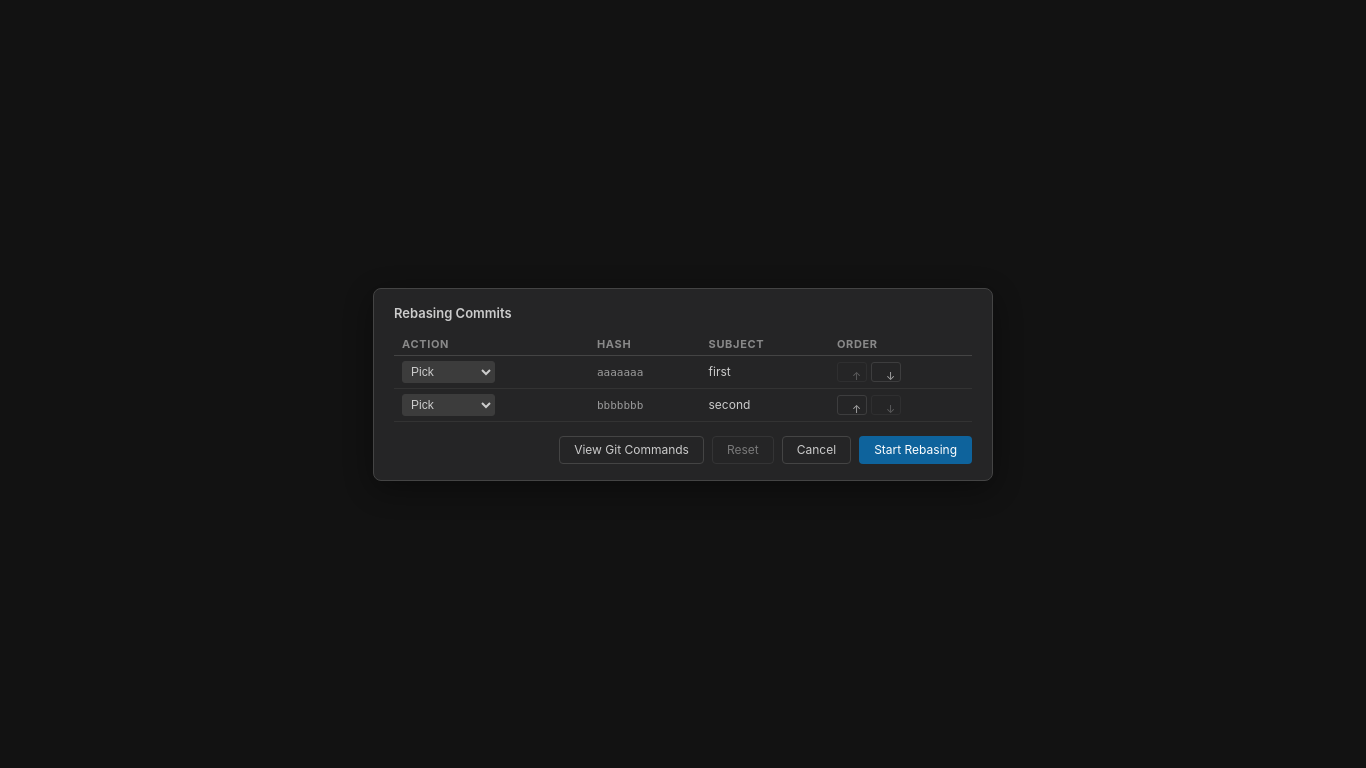
InteractiveRebaseDialog › keeps the dialog open and shows why a rebase failed
Expected: the text "first" is shown, [708,364,731,379]
Click the button "Start Rebasing": point(916, 450) [859,436,972,464]
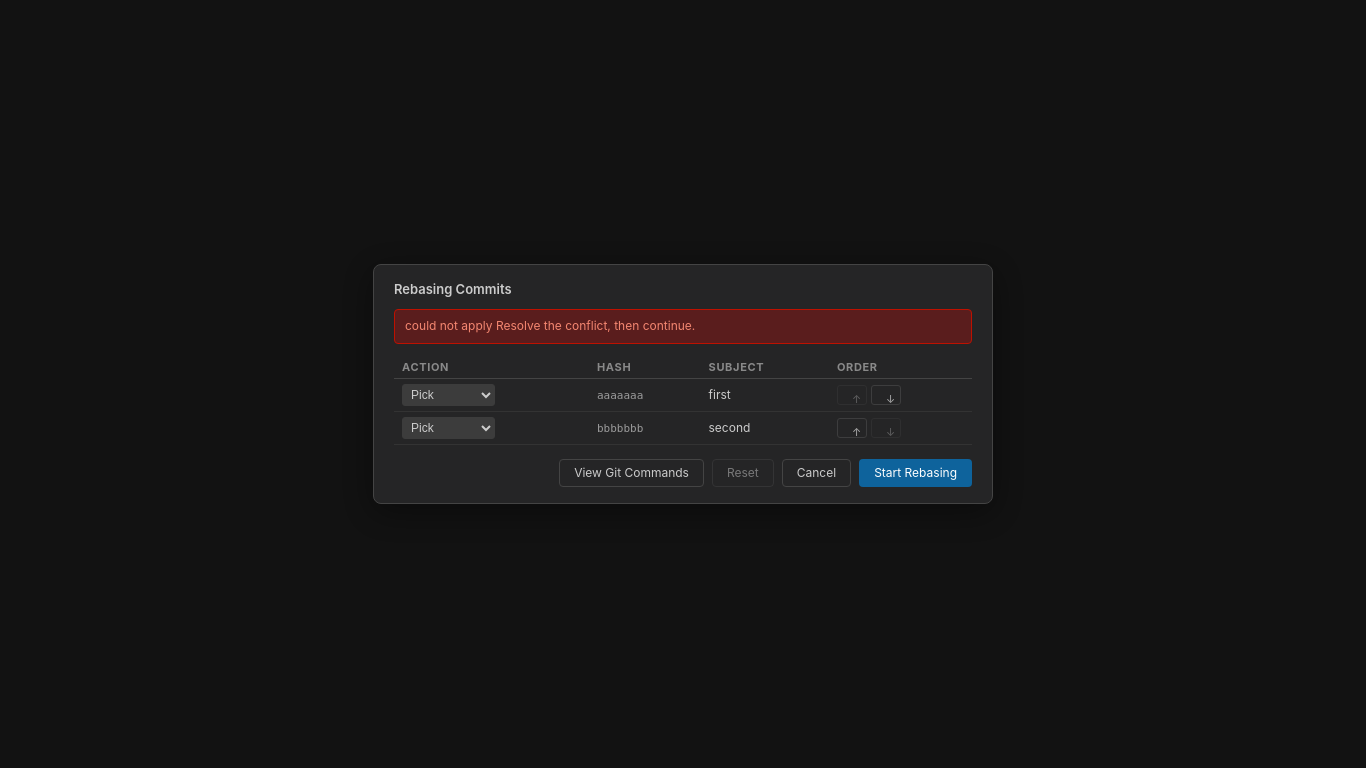
Now the text "could not apply Resolve the conflict, then continue." is shown, box [394,309,972,344]
